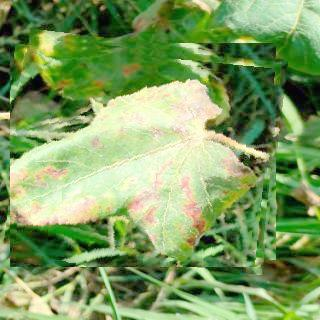blight: (10, 36, 282, 267)
